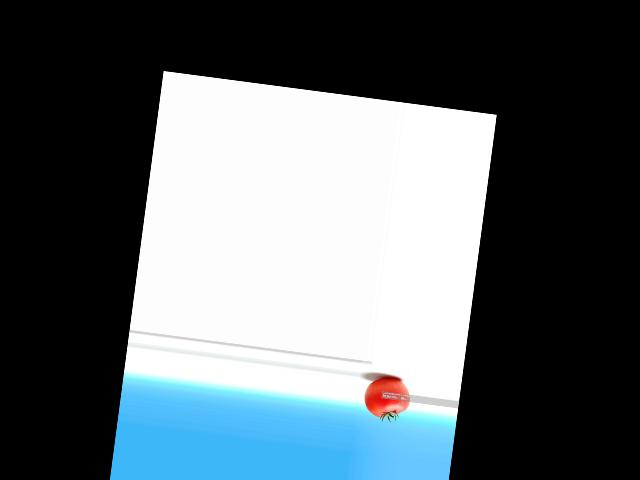tomato: (362, 376, 413, 420)
